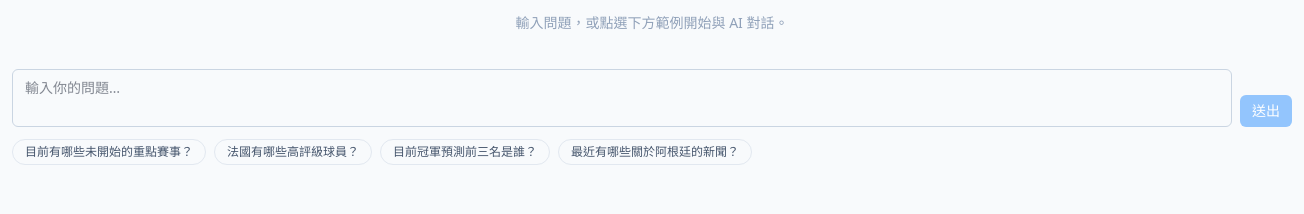
it: GeneralFloatingChat › shows an error message when the request is forbidden
Type "測試問題" into the text box named "輸入問題". click: (622, 98)
box: [12,69,1232,127]
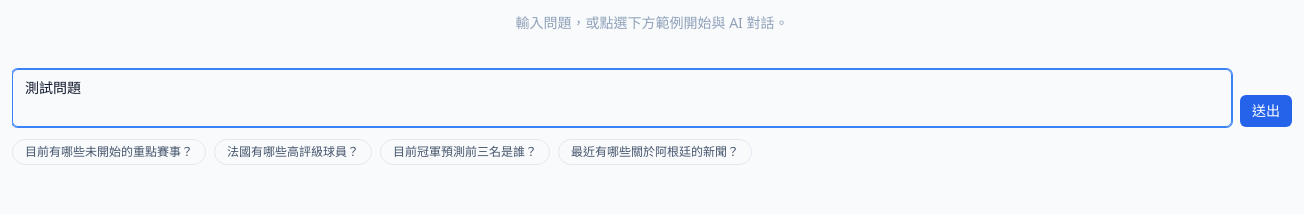
Click the button "送出". click: (1266, 111)
box: [1240,95,1292,127]
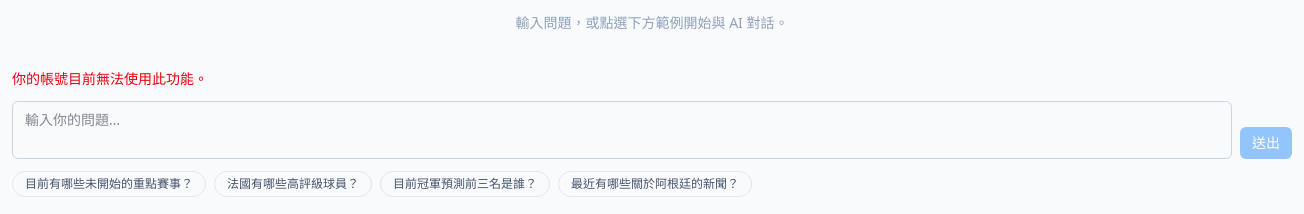
Expected: the text "你的帳號目前無法使用此功能。" is shown, [12,69,208,88]
